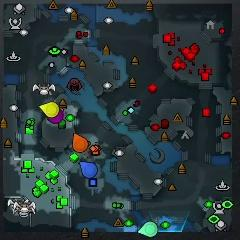p1: (80, 161, 97, 180)
p2: (138, 221, 159, 237)
p3: (45, 108, 64, 123)
p4: (37, 101, 60, 118)
p5: (72, 133, 89, 152)
